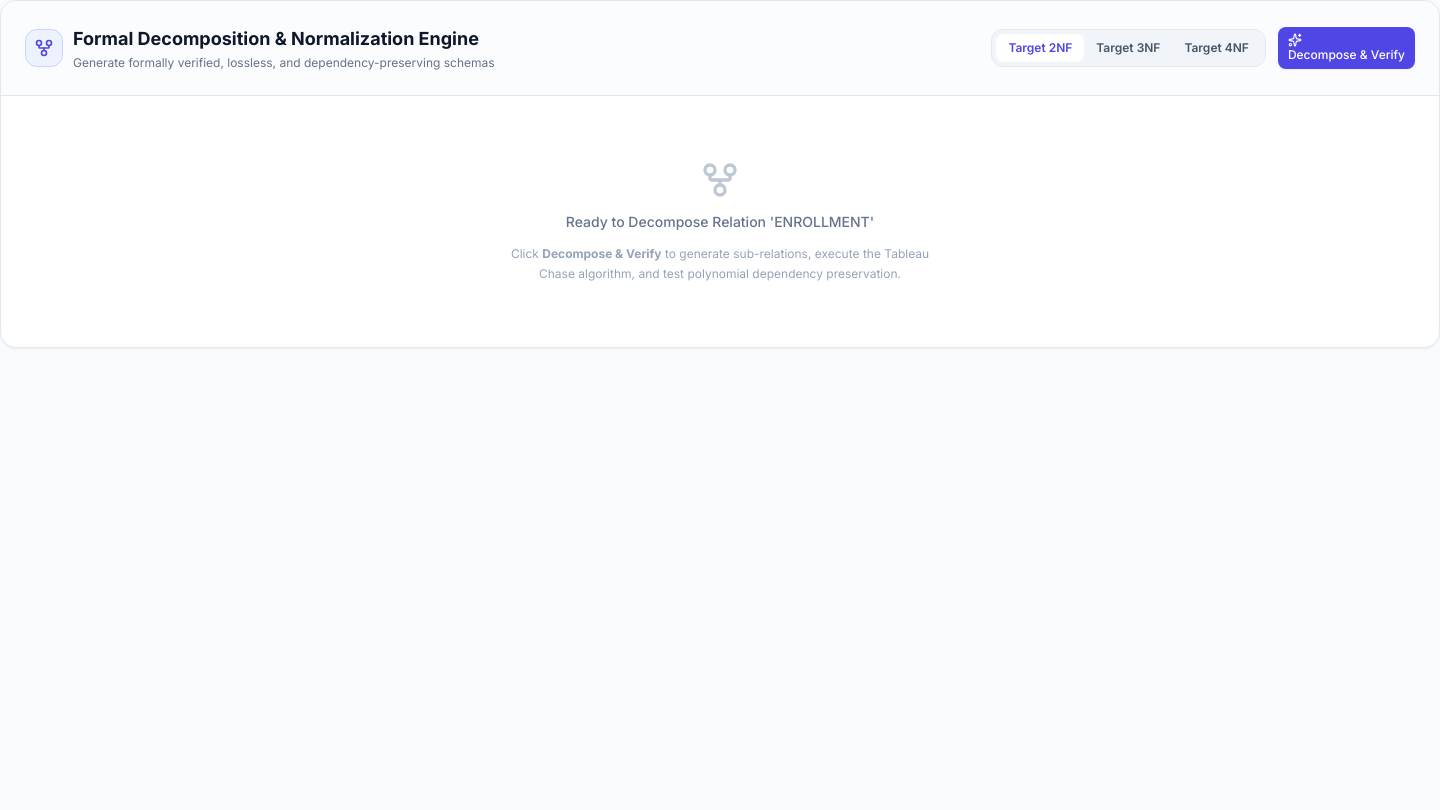
it: DecompositionWorkspace Component (Phase 7) › toggles verification logic drawer and switches tabs
Click the button "Decompose & Verify" at point(1346, 48), box [1278,27,1415,69]
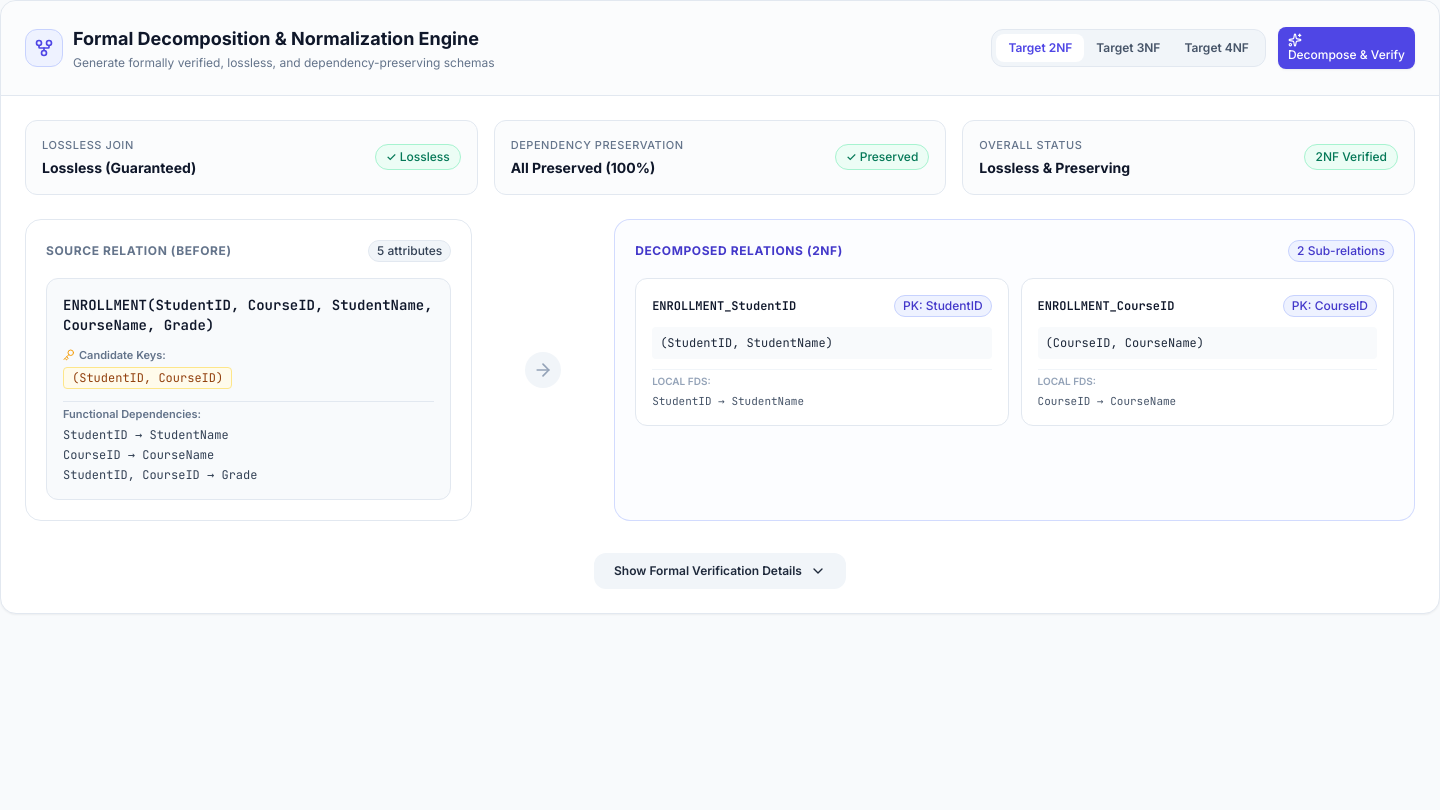
Now the text "Show Formal Verification Details" is shown, box [614,562,802,578]
// Expand logic drawer
Click the button "Show Formal Verification Details" at point(720, 570), box [594,552,846,588]
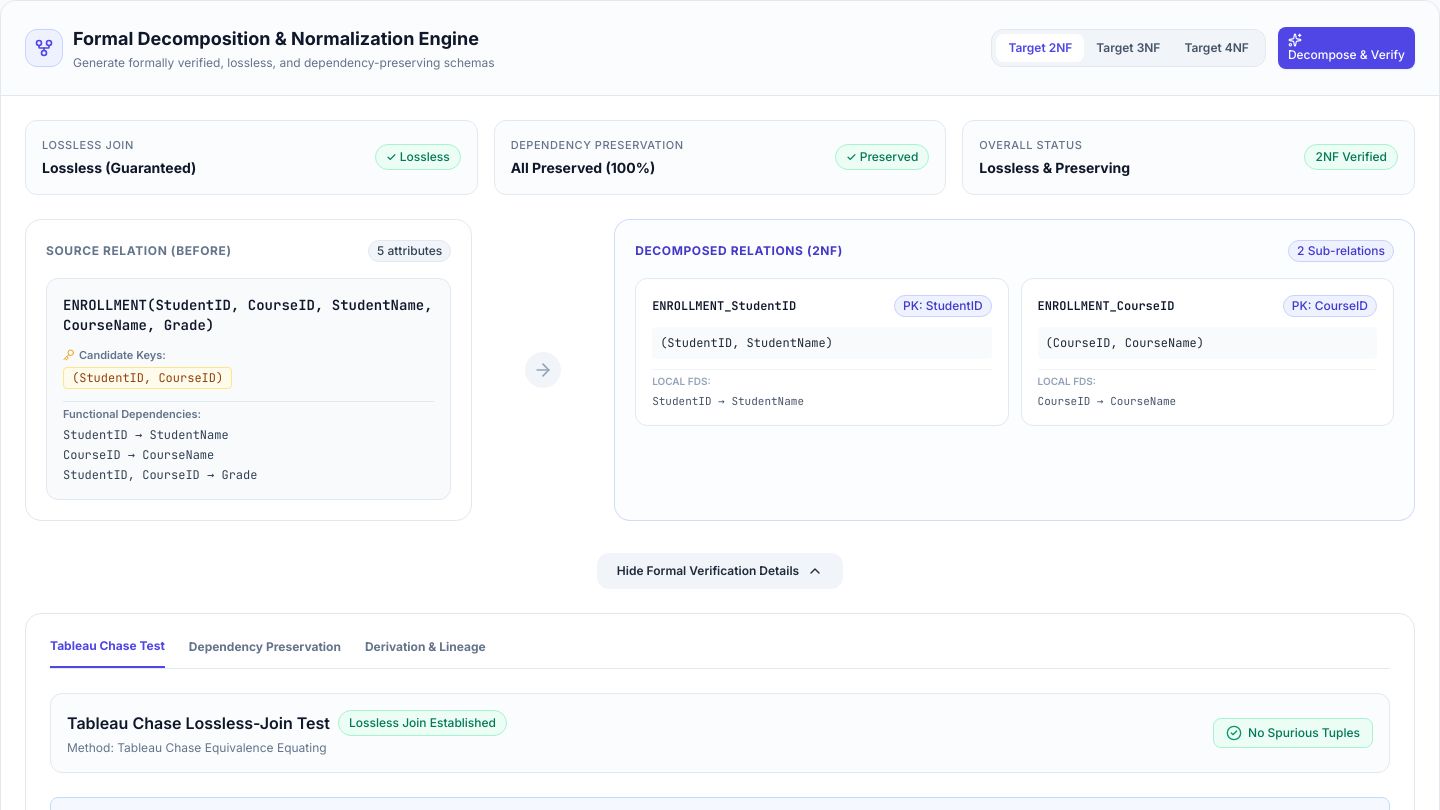
Now the button "Tableau Chase Test" is shown, box [50,638,165,668]
Now the button "Dependency Preservation" is shown
Now the button "Derivation & Lineage" is shown, box [365,638,486,668]
// Switch to Dependency Preservation tab
Click the button "Dependency Preservation" at point(265, 652), box [189,638,341,668]
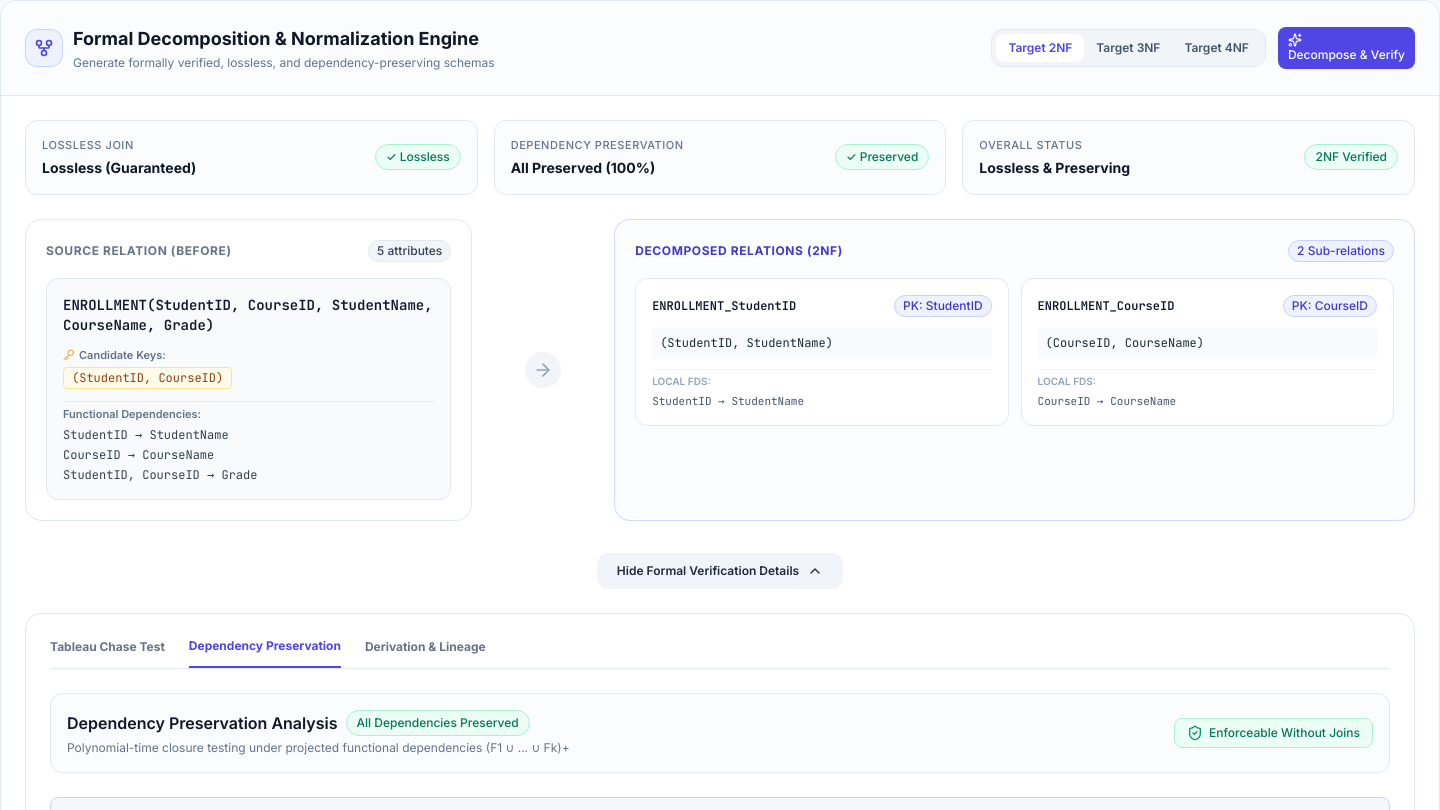
Now the heading "Dependency Preservation Analysis" is shown, box [67,710,338,734]
